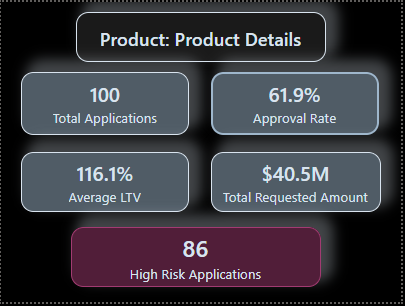

Layout of this report page (visuals, bound fields, positions):
{"tool":"powerbi","page":{"name":"Tooltip Product","canvas":[320,240],"ordinal":6},"visuals":[{"type":"cardVisual","fields":{"Data":["_Measures.Selected Product Title"]},"box":[60,8,200,40],"z":0},{"type":"cardVisual","fields":{"Data":["_Measures.Total Applications"]},"box":[16,56,135,50],"z":1000},{"type":"cardVisual","fields":{"Data":["_Measures.Total Requested Amount"]},"box":[168,120,136,48],"z":2000},{"type":"cardVisual","fields":{"Data":["_Measures.Average LTV"]},"box":[16,120,135,48],"z":3000},{"type":"cardVisual","fields":{"Data":["_Measures.Approval Rate"]},"box":[168,56,135,50],"z":4000},{"type":"cardVisual","fields":{"Data":["_Measures.High Risk Applications"]},"box":[56,180,200,48],"z":5000}]}

Visuals, with their boxes in screenshot pixels (x1, y1, x2, y2), scaled from the page's 320x240 canvas onto the 405x306 screenshot:
cardVisual - _Measures.Selected Product Title: l=76, t=10, r=329, b=61
cardVisual - _Measures.Total Applications: l=20, t=71, r=191, b=135
cardVisual - _Measures.Total Requested Amount: l=213, t=153, r=385, b=214
cardVisual - _Measures.Average LTV: l=20, t=153, r=191, b=214
cardVisual - _Measures.Approval Rate: l=213, t=71, r=383, b=135
cardVisual - _Measures.High Risk Applications: l=71, t=229, r=324, b=291
